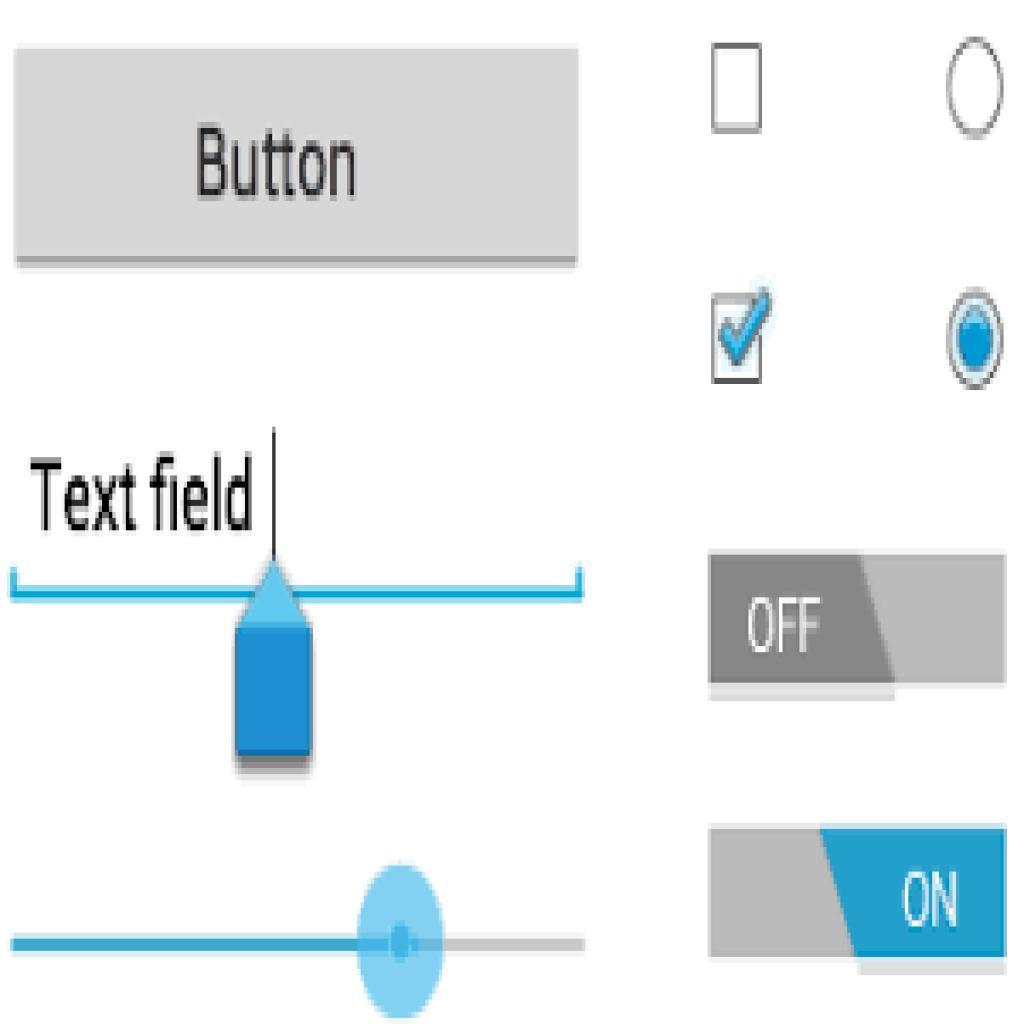button: (14, 48, 577, 263)
checkbox: (711, 293, 765, 386), (714, 46, 765, 131)
radio: (947, 30, 1007, 142), (946, 287, 1005, 397)
slider: (14, 861, 606, 1013)
